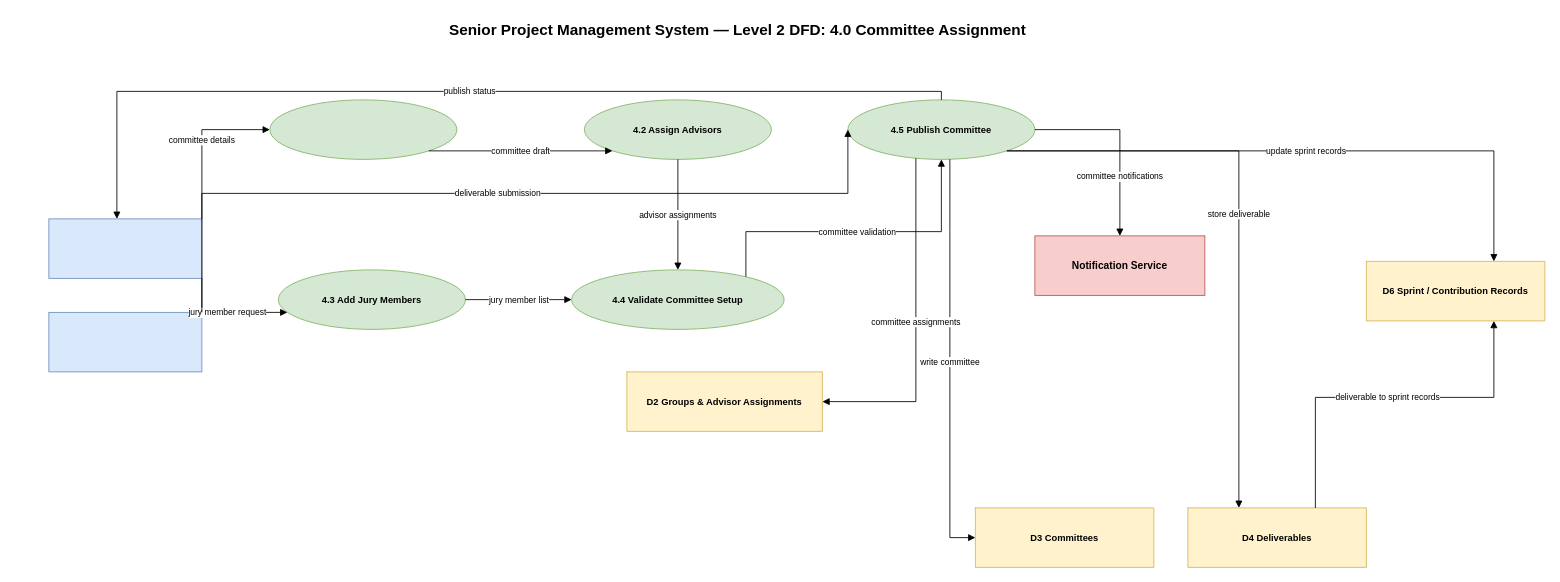
Image size: 1560x582. Some labels were removed from this diagram. Here are the shapes that lost their labels. From the top down, the centre of each, then its label:
At (x=363, y=129): "4.1 Create Committee".
At (x=125, y=248): "Coordinator".
At (x=125, y=342): "Student".
